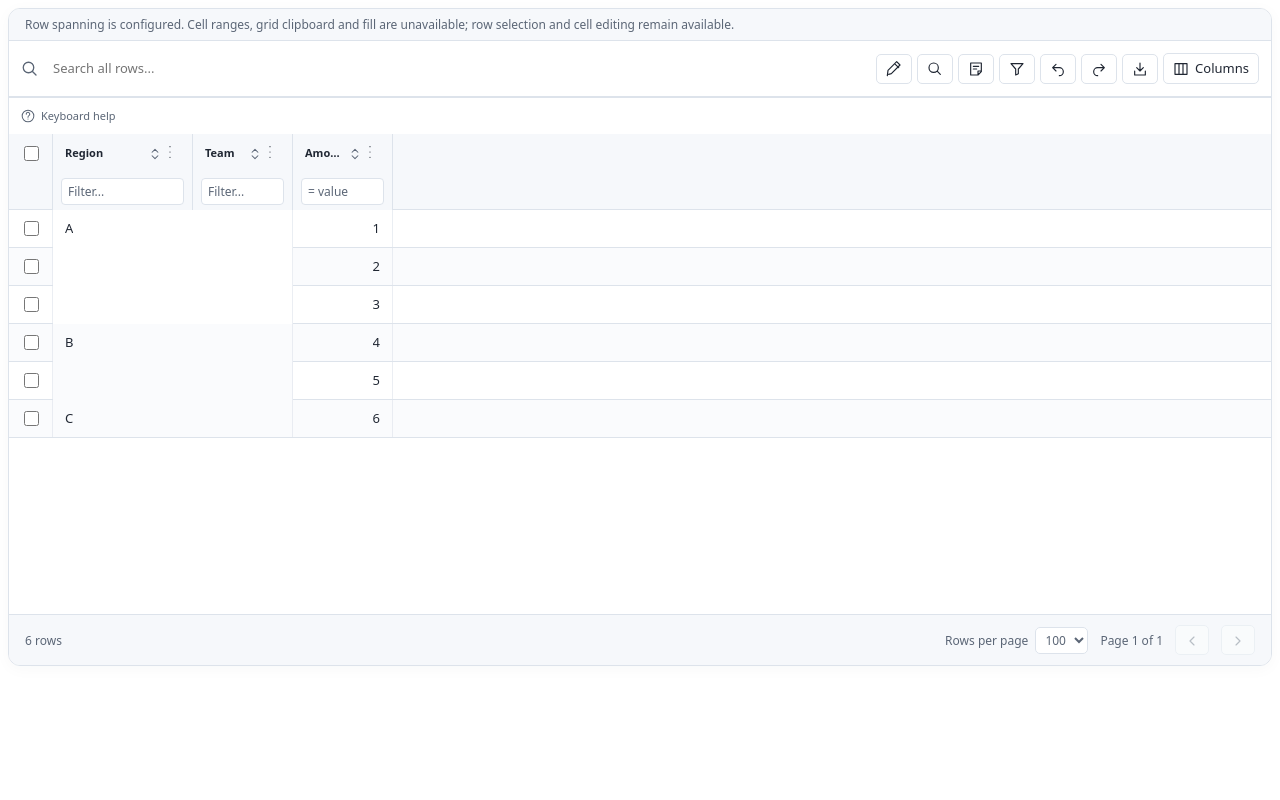
Test: combined merged-cell grid › Find omits both horizontal and vertical covered values
Click the button named "Find" at (935, 69), box [917,54,953,84]
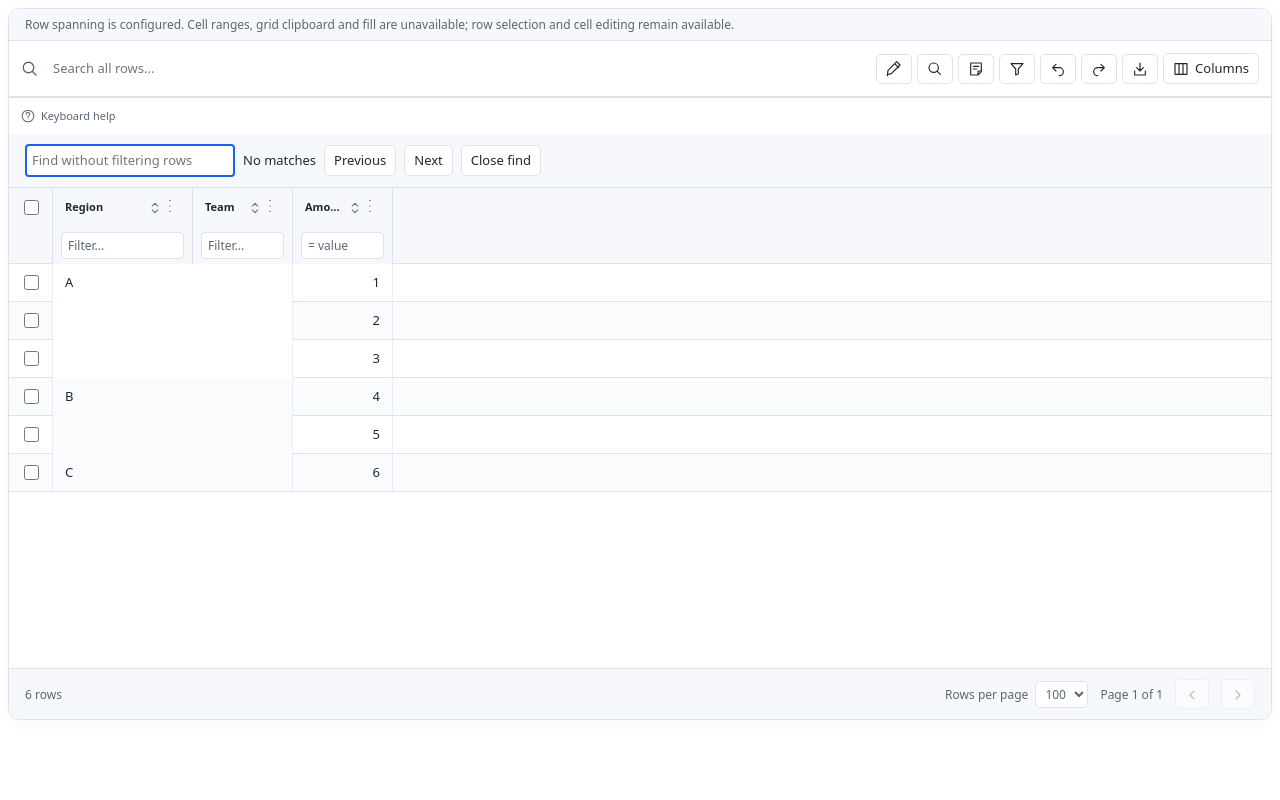
Type "Hidden team" into the field named "Find in current view" at (130, 161), box [25,144,235,177]
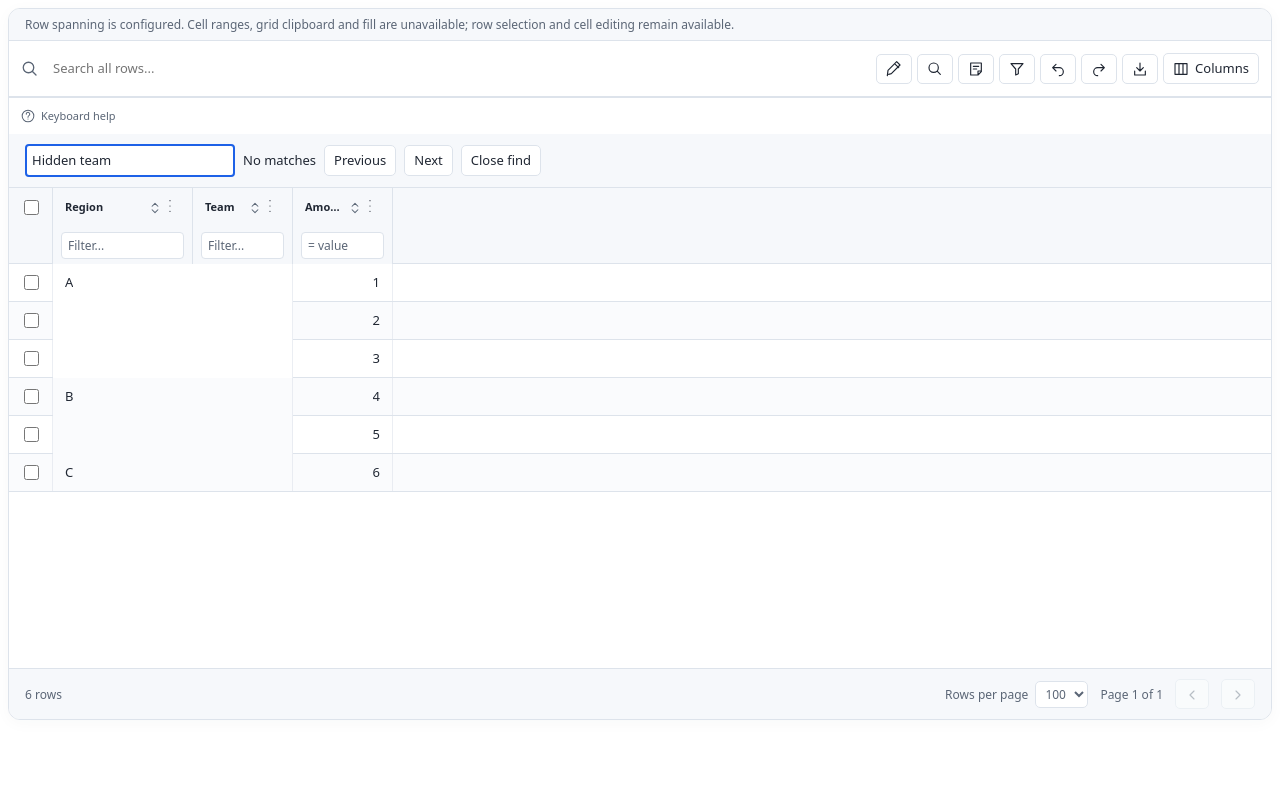
Now the text "No matches" is shown, box [243,151,316,170]
Replace the text in the field named "Find in current view" with "A" at (130, 161), box [25,144,235,177]
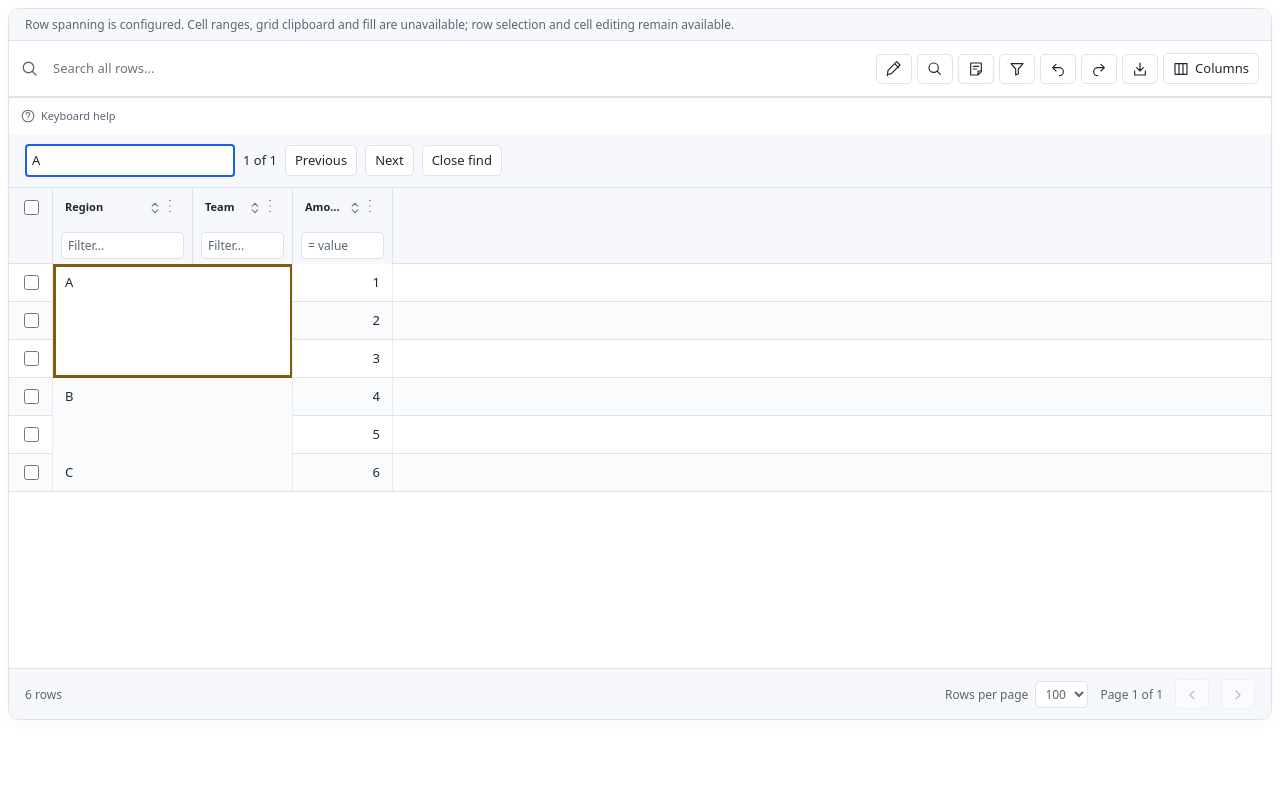
Now the text "1 of 1" is shown, box [243,151,277,170]
